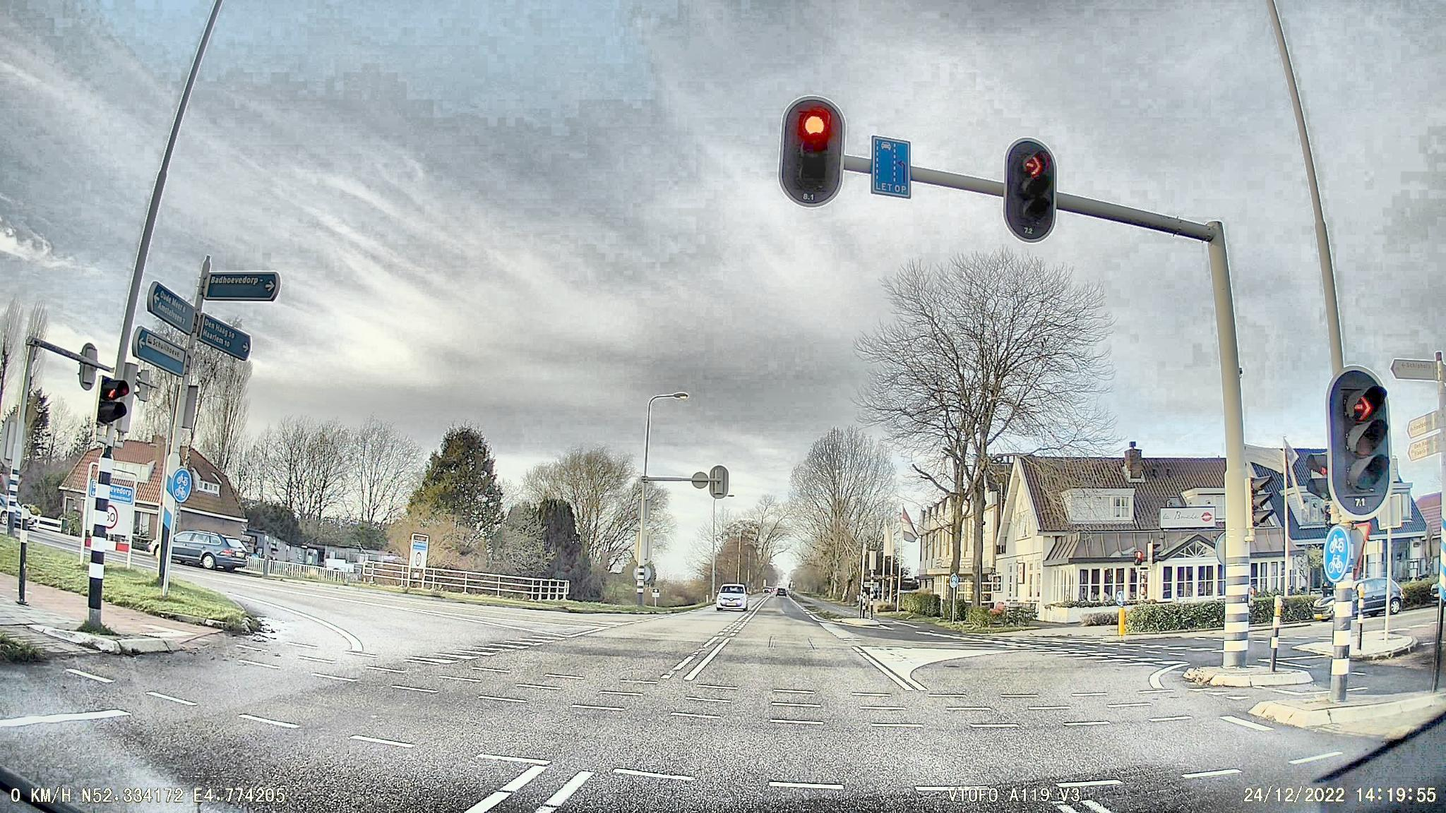Roads: (0, 571, 1446, 813)
